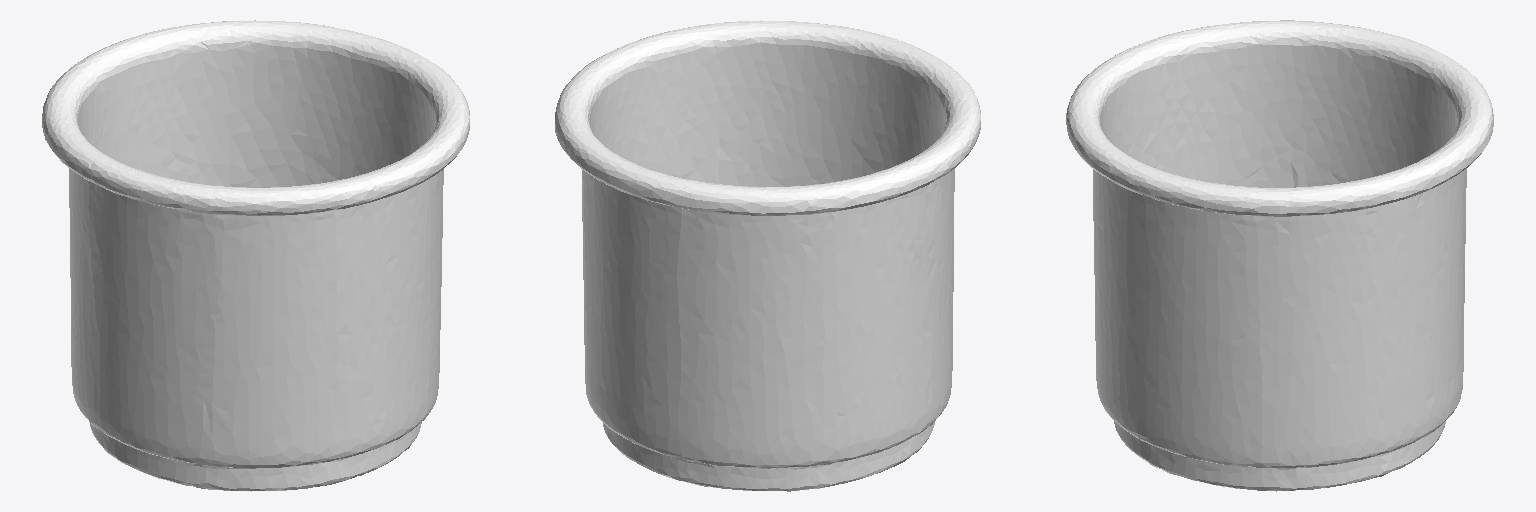
robot.urdf — 063-a_marbles:
<robot name="063-a_marbles">
	<link name="_name">
		<visual>
			<origin xyz="0.027500211748439637 -0.2916533353054031 -0.22153924089922641" rpy="0 0 0" />
			<geometry>
				<mesh filename="063-a_marbles/google_16k/textured.obj" scale="10 10 10" />
			</geometry>
			<material name="texture">
				<color rgba="1.0 1.0 1.0 1.0" />
			</material>
		</visual>
		<collision>
			<geometry>
				<mesh filename="063-a_marbles/google_16k/textured_vhacd.obj" scale="10 10 10" />
			</geometry>
		<origin xyz="0.027500211748439637 -0.2916533353054031 -0.22153924089922641" rpy="0 0 0" /></collision>
		<inertial>
			<mass value="1.0" />
			<inertia ixx="1.0" ixy="0.0" ixz="0.0" iyy="1.0" iyz="0.0" izz="1.0" />
		</inertial>
	</link>
</robot>

--- Render facts (derived) ---
Views: 3 orthographic renders of the robot side by side, from view 1: azimuth 30°, elevation 25°; view 2: azimuth 150°, elevation 25°; view 3: azimuth 270°, elevation 25°.
Model 063-a_marbles with 1 links and 0 joints (none), rooted at _name, posed every joint at zero.
Visible links, largest first — view 1: _name; view 2: _name; view 3: _name.
Boxes of the visible links, x1=… form: _name: x1=42, y1=20, x2=469, y2=491; _name: x1=555, y1=20, x2=980, y2=491; _name: x1=1066, y1=20, x2=1493, y2=491.
Bounding box of the posed robot: 0.915 × 0.9162 × 0.7506 m (x, y, z).
1 mesh visuals loaded from 1 distinct referenced files (1 OBJ).